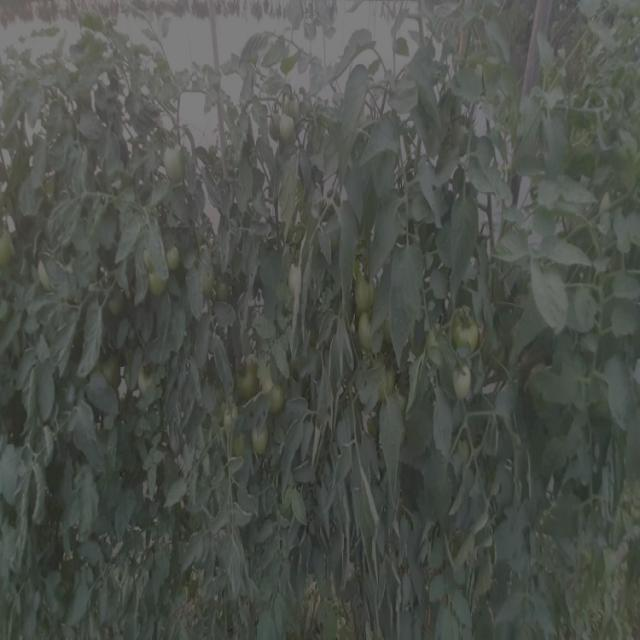tomato: (158, 133, 192, 183), (452, 306, 487, 350), (348, 267, 384, 309), (241, 420, 277, 462), (451, 358, 479, 406), (133, 360, 164, 402), (355, 311, 387, 347), (271, 111, 301, 144), (1, 226, 21, 273), (230, 359, 254, 396), (261, 378, 286, 412), (281, 88, 306, 121), (159, 240, 183, 273), (146, 269, 171, 298)
